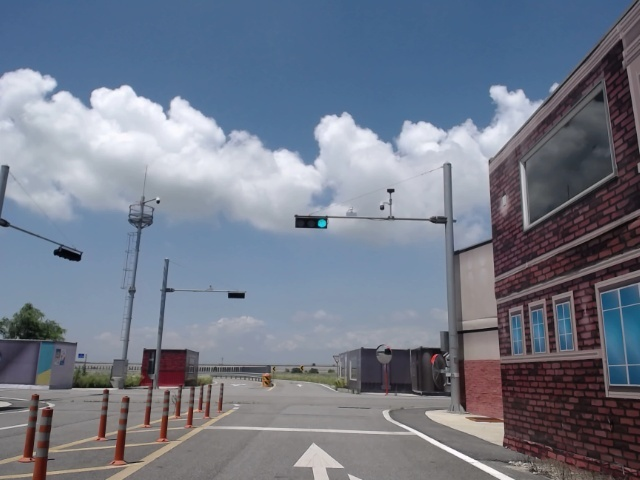green_3: (295, 217, 327, 228)
